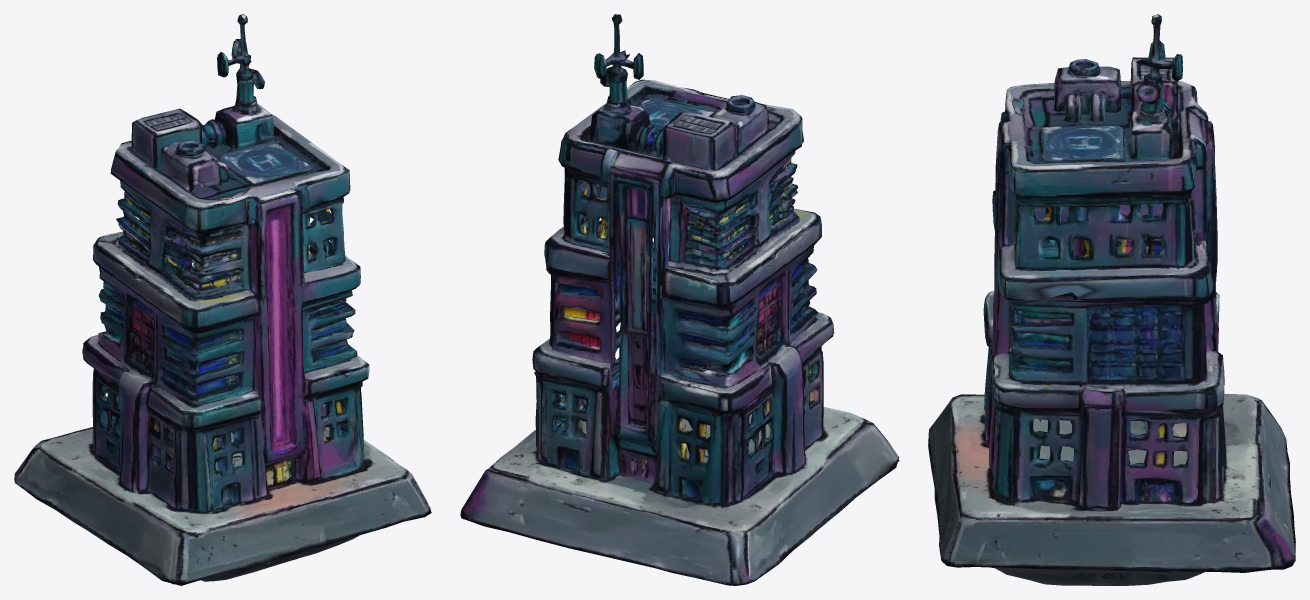
The model's file is tower-a.glb.
3 views of the same model, side by side, from view 1: azimuth 30°, elevation 25°; view 2: azimuth 150°, elevation 25°; view 3: azimuth 270°, elevation 25° (orthographic). The views are drawn at different scales.
Parts seen in each view (by area): view 1: geometry_0; view 2: geometry_0; view 3: geometry_0.
Boxes of the visible parts, bbox=[...] form: geometry_0: bbox=[14, 14, 431, 585]; geometry_0: bbox=[460, 14, 899, 585]; geometry_0: bbox=[928, 14, 1295, 585].
Size of the model in its own units: 0.5061 by 0.9121 by 0.5253.
1 material, 1 textured.
